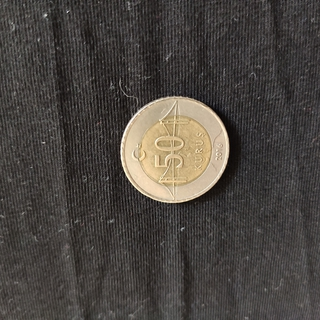50KURUS: (118, 94, 231, 205)
